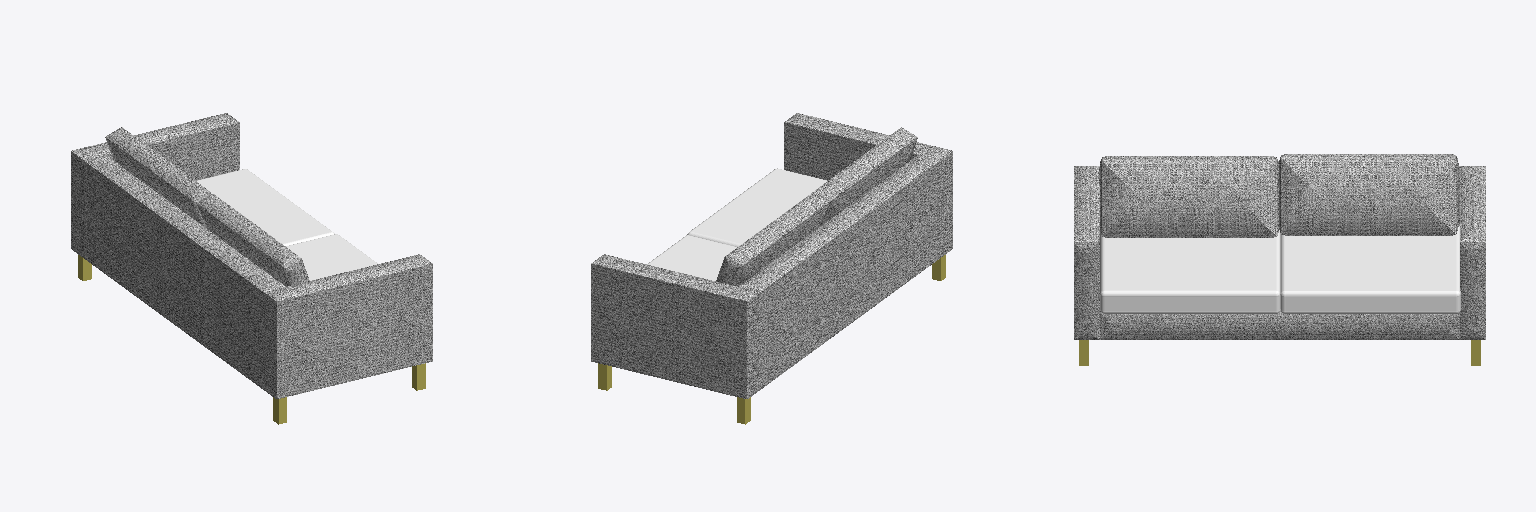
The picture shows the model from 3 angles: view 1: azimuth 30°, elevation 25°; view 2: azimuth 150°, elevation 25°; view 3: azimuth 270°, elevation 25°; orthographic projection.
Parts seen in each view (by area): view 1: Mesh5 Model, Mesh2 seat_cushion2 Model, Mesh3 back_cushion1 Model, Mesh4 back_cushion2 Model, Mesh1 seat_cushion1 Model; view 2: Mesh5 Model, Mesh1 seat_cushion1 Model, Mesh4 back_cushion2 Model, Mesh3 back_cushion1 Model, Mesh2 seat_cushion2 Model; view 3: Mesh5 Model, Mesh4 back_cushion2 Model, Mesh3 back_cushion1 Model, Mesh2 seat_cushion2 Model, Mesh1 seat_cushion1 Model.
Boxes of the visible parts, box(x1,y1,x2,y2) form: Mesh5 Model: box(71, 113, 432, 424); Mesh2 seat_cushion2 Model: box(197, 169, 334, 245); Mesh3 back_cushion1 Model: box(196, 194, 309, 286); Mesh4 back_cushion2 Model: box(105, 127, 210, 225); Mesh1 seat_cushion1 Model: box(286, 234, 377, 280); Mesh5 Model: box(591, 113, 952, 424); Mesh1 seat_cushion1 Model: box(687, 168, 826, 246); Mesh4 back_cushion2 Model: box(716, 192, 829, 286); Mesh3 back_cushion1 Model: box(814, 127, 917, 223); Mesh2 seat_cushion2 Model: box(647, 235, 736, 280); Mesh5 Model: box(1074, 166, 1485, 365); Mesh4 back_cushion2 Model: box(1279, 154, 1458, 235); Mesh3 back_cushion1 Model: box(1099, 156, 1278, 237); Mesh2 seat_cushion2 Model: box(1280, 226, 1460, 313); Mesh1 seat_cushion1 Model: box(1100, 230, 1280, 313).
Size of the model in its own units: 36.91 by 32.63 by 80.
3 materials, 1 textured.